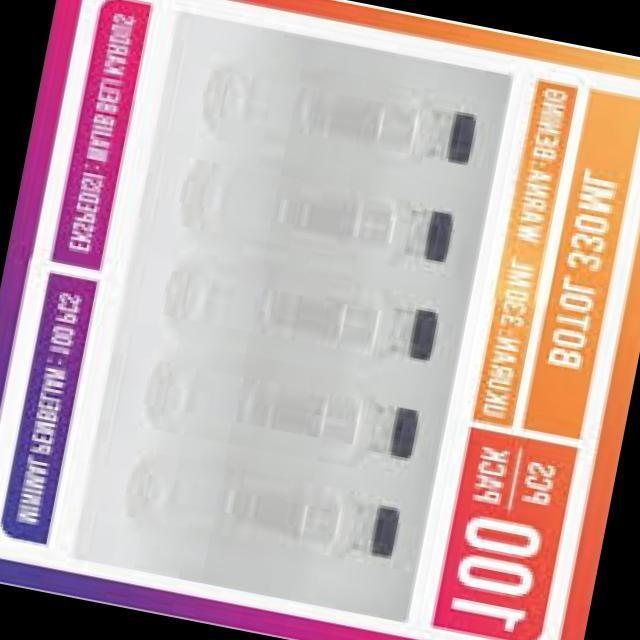good: (138, 333, 428, 486), (177, 133, 468, 280), (188, 41, 484, 183), (119, 444, 410, 580), (155, 240, 448, 374)
